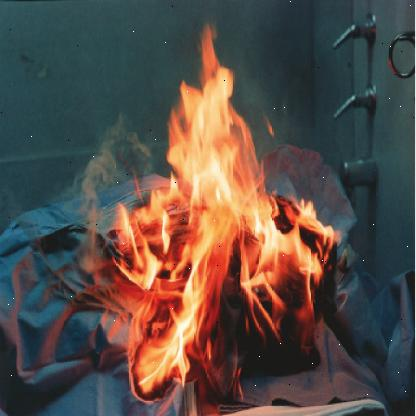fire: (109, 13, 340, 398)
smoke: (74, 116, 152, 293)
